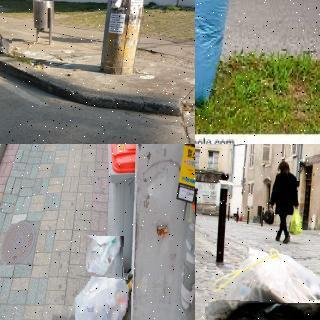Garbage: (210, 242, 320, 320), (195, 0, 238, 114), (69, 268, 131, 320), (86, 236, 125, 277), (0, 31, 13, 53)
